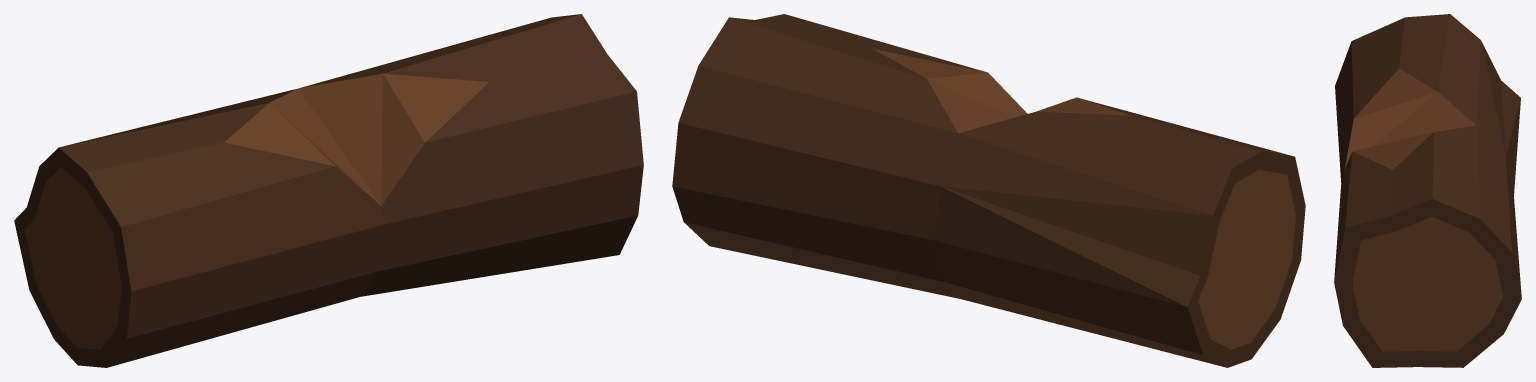
The model's file is Log_9_Dark_Brown.fbx.
The picture shows the model from 3 angles, left to right: view 1: azimuth 30°, elevation 25°; view 2: azimuth 150°, elevation 25°; view 3: azimuth 270°, elevation 25°; orthographic projection. The views are drawn at different scales.
Visible parts, largest first — view 1: Log_9_Dark_Brown; view 2: Log_9_Dark_Brown; view 3: Log_9_Dark_Brown.
Boxes of the visible parts, x1=… form: Log_9_Dark_Brown: x1=14, y1=14, x2=643, y2=367; Log_9_Dark_Brown: x1=672, y1=14, x2=1305, y2=367; Log_9_Dark_Brown: x1=1334, y1=14, x2=1521, y2=367.
Size of the model in its own units: 200 by 82.45 by 80.1.
